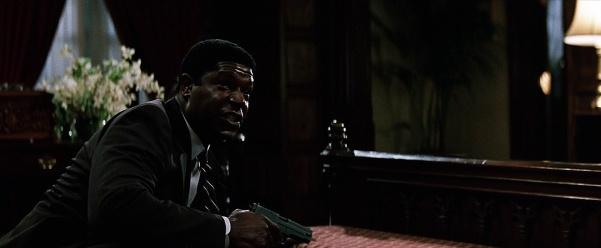Gun: (250, 201, 313, 245)
